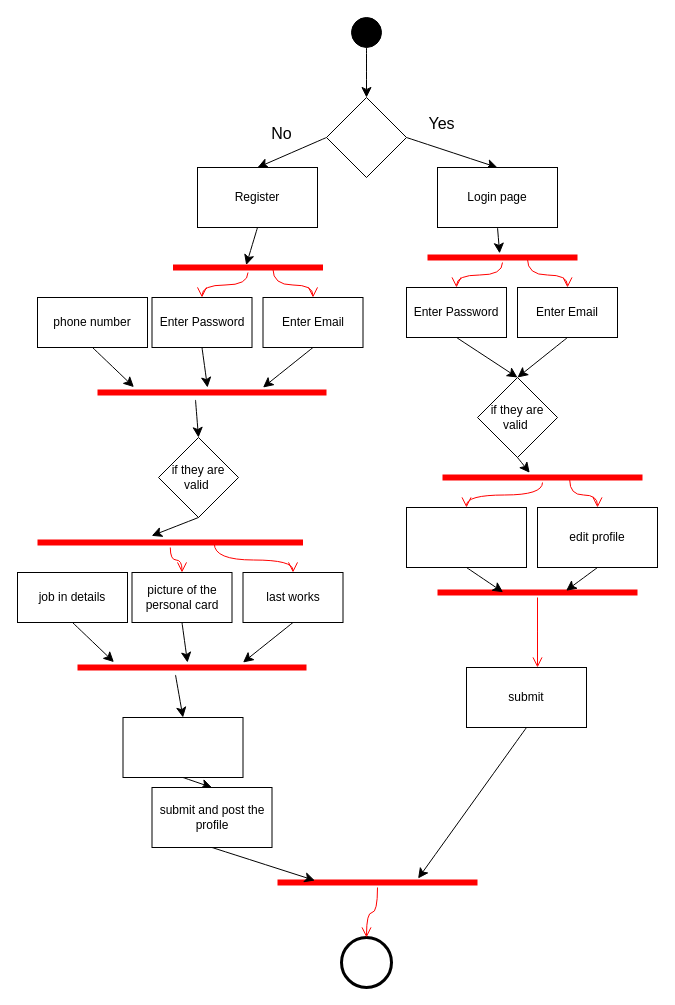
Image size: 675x1005. Some labels were removed from this diagram. The shapes that lost their labels are listed below. From the top down, each one's box as (x1, y1, x2, y2) in pixels, then its label:
(326, 96, 406, 178): have an account
(406, 506, 526, 568): view profile
(122, 716, 243, 778): check the validate inputs
